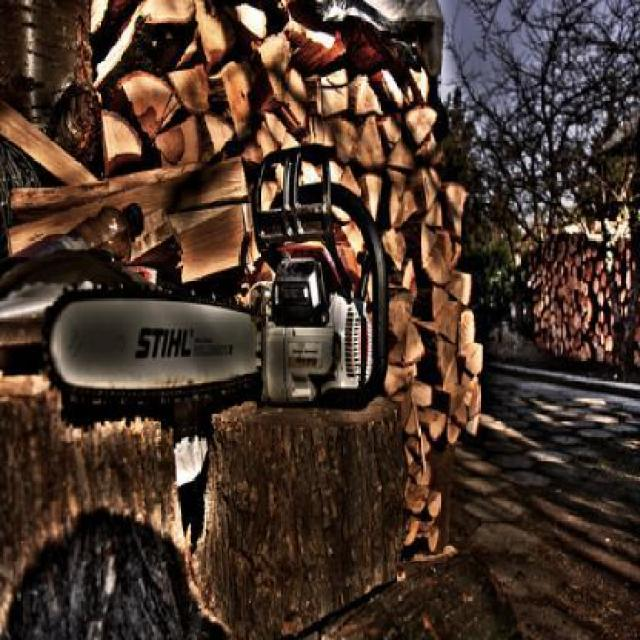Chainsaw: (38, 138, 394, 424)
